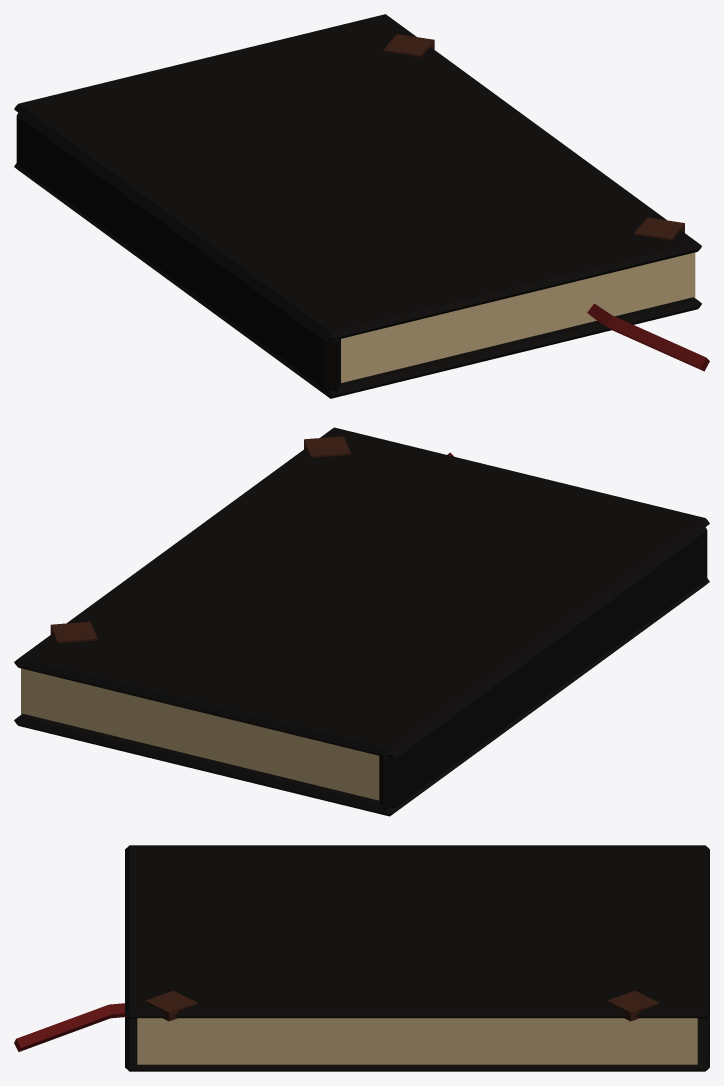
Rendered from gm_notebook.glb.
3 renders of one model, top to bottom at view 1: azimuth 30°, elevation 25°; view 2: azimuth 150°, elevation 25°; view 3: azimuth 270°, elevation 25°, orthographic. The views are drawn at different scales.
Visible parts, largest first — view 1: teil0, teil1, teil3, teil2; view 2: teil0, teil1, teil2; view 3: teil0, teil1, teil3, teil2.
Boxes of the visible parts, x1,y1,x2,y2 form: teil0: (14,14,701,398); teil1: (341,252,695,382); teil3: (587,303,709,371); teil2: (383,34,684,240); teil0: (14,427,709,816); teil1: (21,668,379,800); teil2: (50,436,350,643); teil0: (125,845,709,1071); teil1: (137,1018,697,1064); teil3: (14,1003,127,1051); teil2: (145,990,658,1021).
Size of the model in its own units: 0.1315 by 0.0243 by 0.2261.
